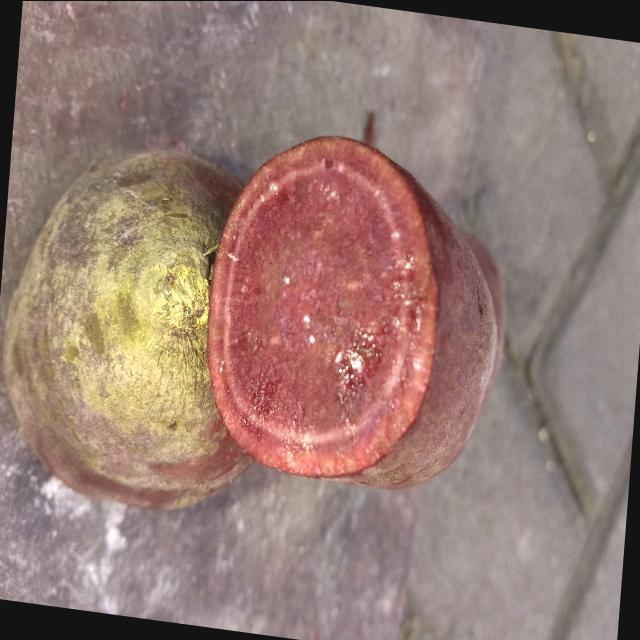Healthy Sweet Potato: (209, 137, 436, 477)
